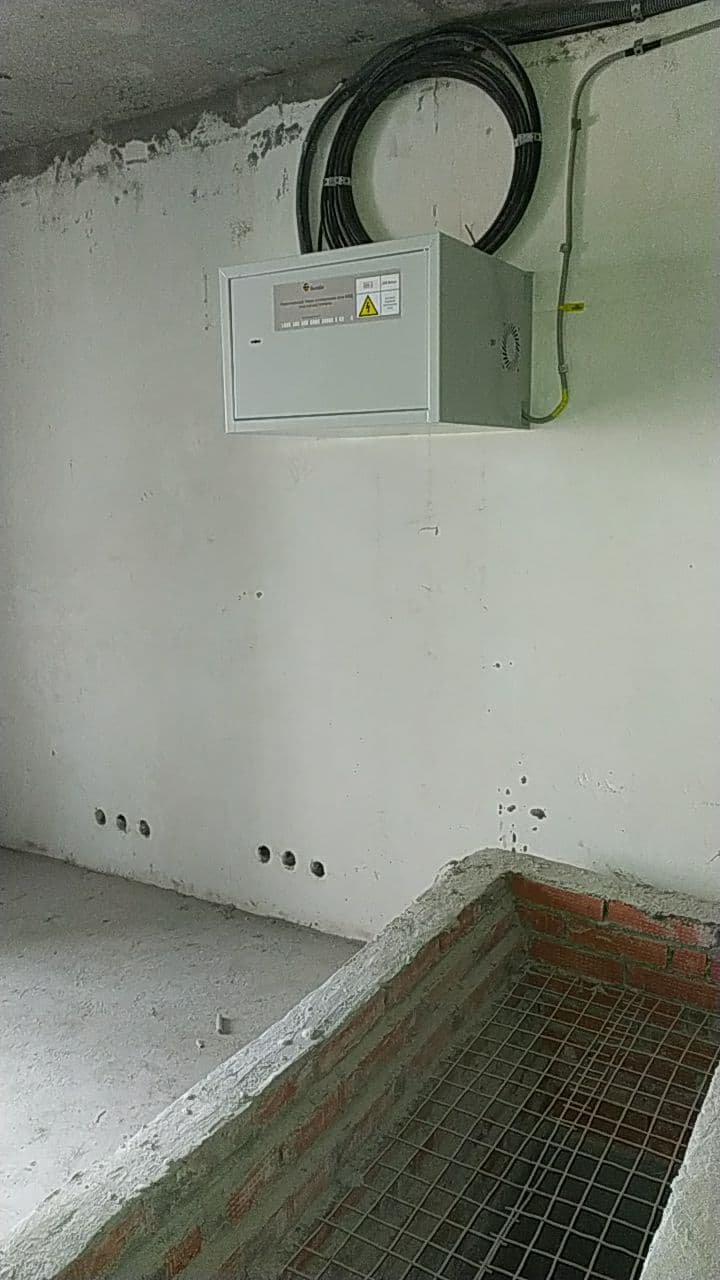shta-7m: (204, 221, 542, 448)
